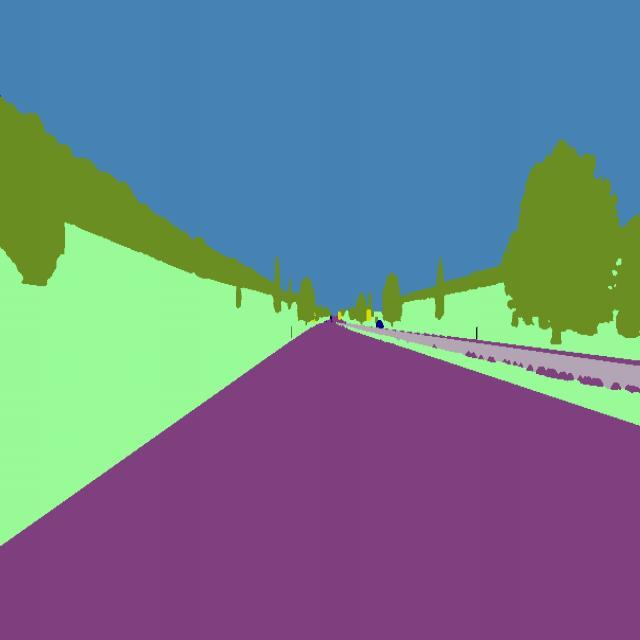safe: (370, 318, 386, 331)
